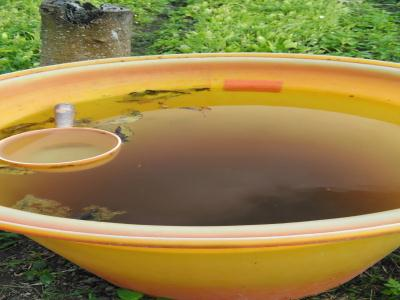bowl: (1, 125, 123, 176)
bucket: (2, 49, 400, 299)
